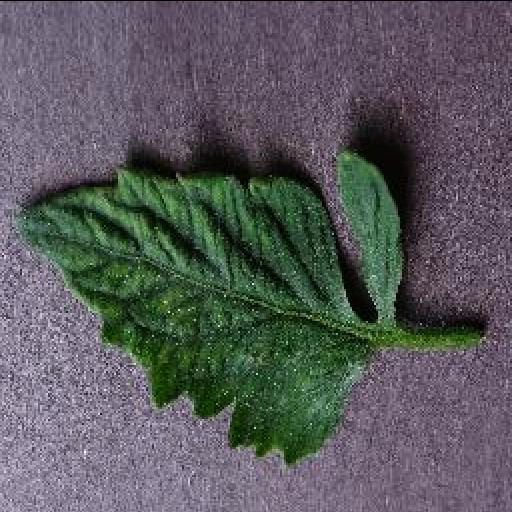disease_tomato: (13, 148, 407, 462)
